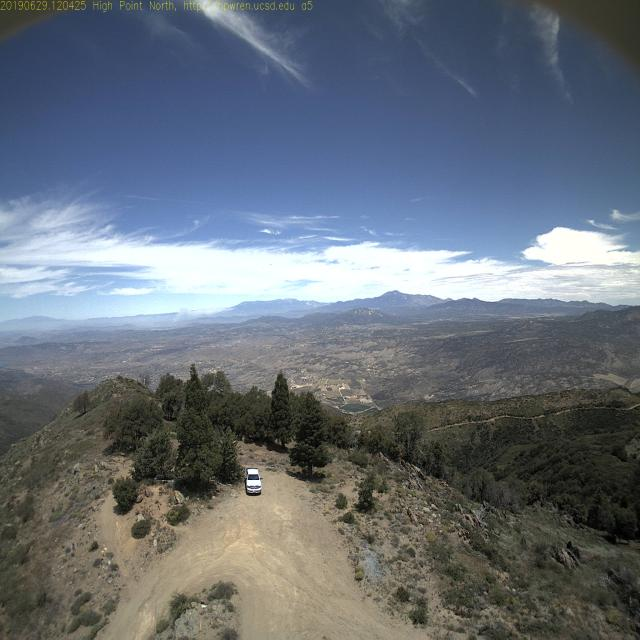smoke: (162, 300, 220, 335)
